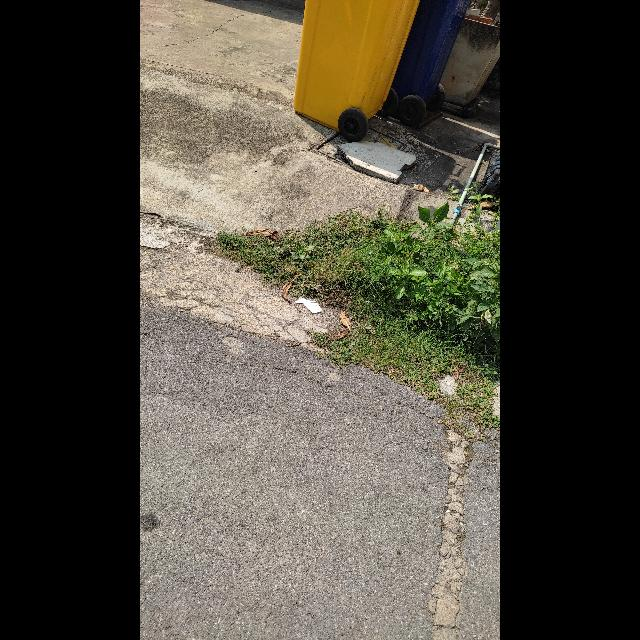scrap_paper: (292, 294, 328, 318)
